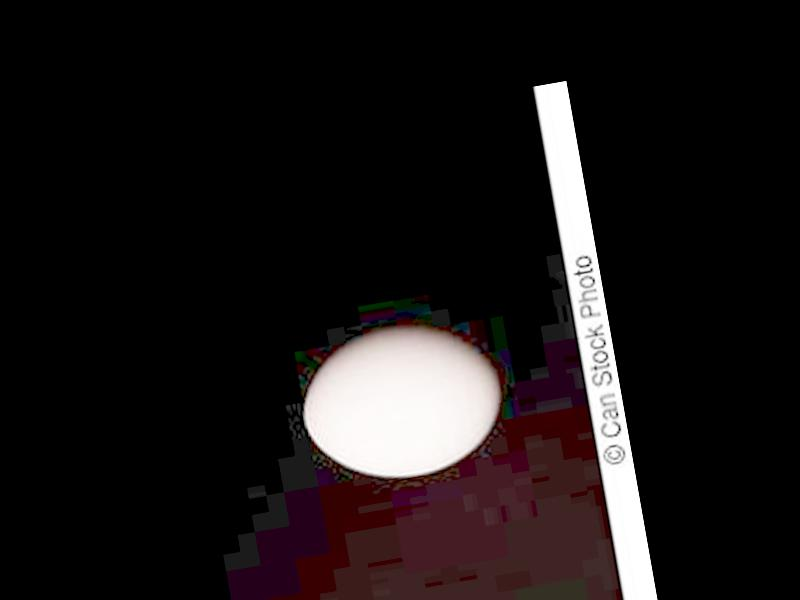Eggs: (292, 313, 514, 492)
